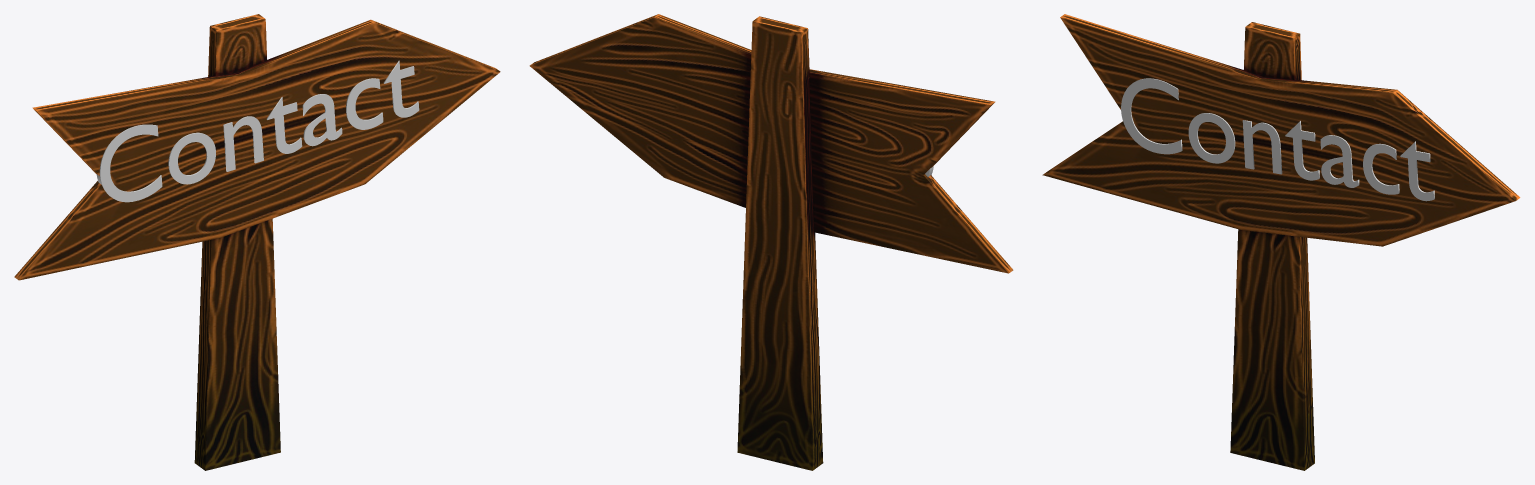
File: contact.glb
3 renders of one model, left to right at view 1: azimuth 30°, elevation 25°; view 2: azimuth 150°, elevation 25°; view 3: azimuth 330°, elevation 25°, orthographic.
Visible parts, largest first — view 1: sign3, Text; view 2: sign3; view 3: sign3, Text.
Part boxes in pixels (x1=…): sign3: x1=14, y1=14, x2=500, y2=470; Text: x1=96, y1=60, x2=419, y2=202; sign3: x1=529, y1=14, x2=1013, y2=470; sign3: x1=1042, y1=14, x2=1520, y2=470; Text: x1=1121, y1=78, x2=1434, y2=201.
Size of the model in its own units: 2.85 by 2.46 by 0.1432.
Materials: 1 (1 with a texture image).
